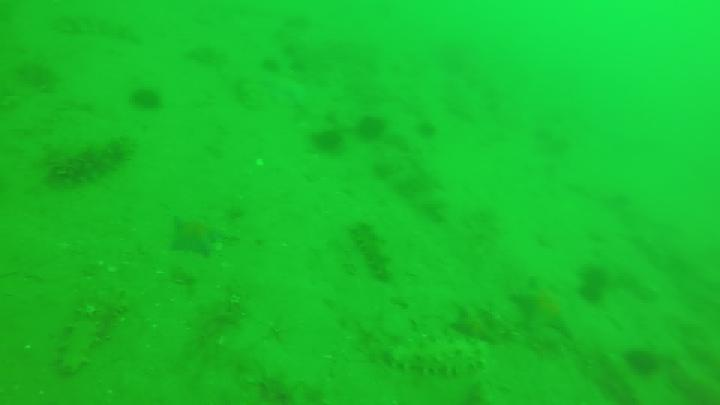echinus: (624, 347, 660, 375), (132, 87, 163, 110), (314, 129, 346, 150)
holothurian: (59, 277, 127, 380), (385, 333, 495, 377), (48, 139, 141, 180), (59, 10, 140, 45), (355, 223, 392, 280)
starfish: (509, 273, 573, 338), (450, 291, 512, 339), (172, 214, 226, 256), (259, 71, 313, 103)
